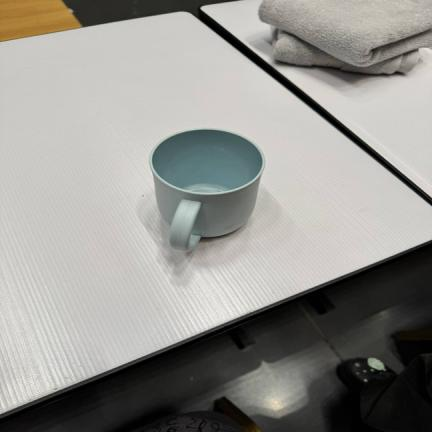cup: (151, 129, 264, 251)
